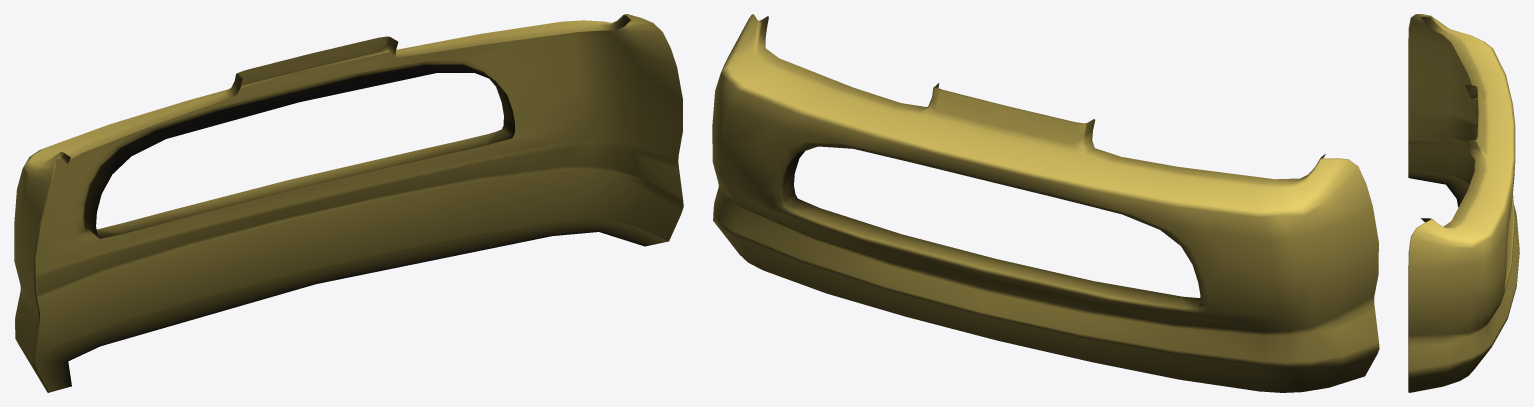
The model's file is Supra_RearBar_02_Duco.fbx.
3 renders of one model, left to right at view 1: azimuth 30°, elevation 25°; view 2: azimuth 150°, elevation 25°; view 3: azimuth 270°, elevation 25°, orthographic. The views are drawn at different scales.
Visible parts, largest first — view 1: Supra_RearBar_02_Duco; view 2: Supra_RearBar_02_Duco; view 3: Supra_RearBar_02_Duco.
Part boxes in pixels (box(x1,y1,x2,y2)): Supra_RearBar_02_Duco: box(14, 14, 683, 392); Supra_RearBar_02_Duco: box(712, 14, 1379, 392); Supra_RearBar_02_Duco: box(1408, 14, 1519, 392).
Bounding box in the file's own units: 152 × 51.15 × 30.64.
